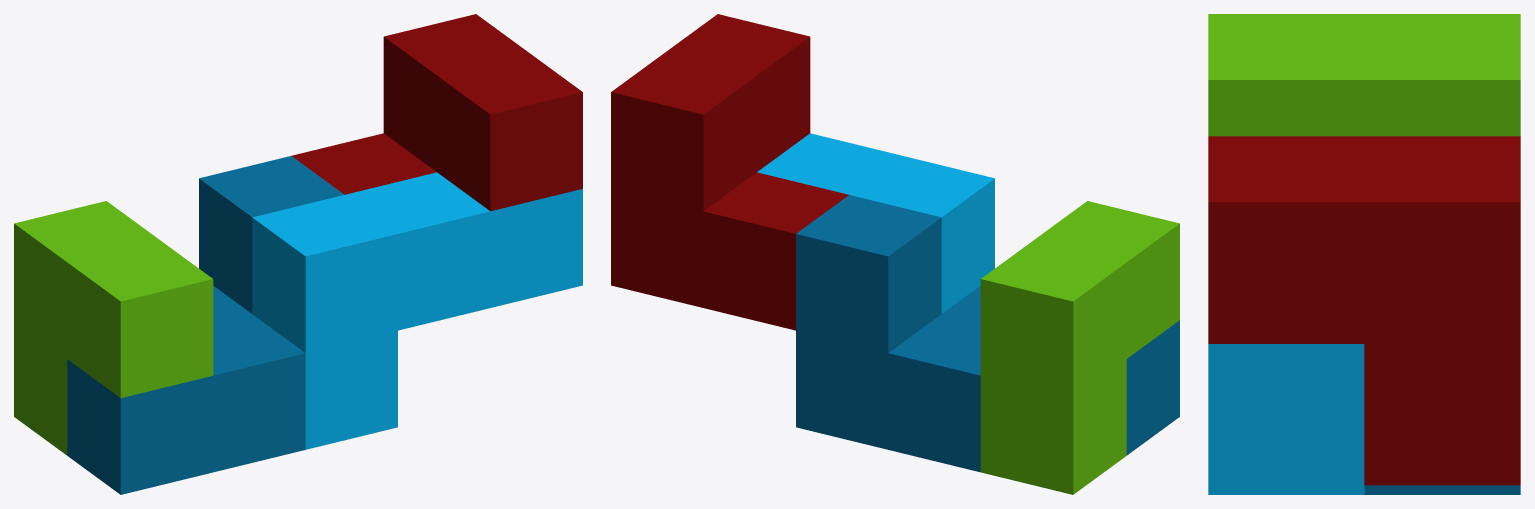
3 renders of one model, left to right at view 1: azimuth 30°, elevation 25°; view 2: azimuth 150°, elevation 25°; view 3: azimuth 270°, elevation 25°, orthographic. The views are drawn at different scales.
Parts seen in each view (by area): view 1: mergedBlocks(Clone); view 2: mergedBlocks(Clone); view 3: mergedBlocks(Clone).
Part boxes in pixels (x1=…): mergedBlocks(Clone): x1=14, y1=14, x2=582, y2=494; mergedBlocks(Clone): x1=611, y1=14, x2=1179, y2=494; mergedBlocks(Clone): x1=1208, y1=14, x2=1520, y2=494.
Bounding box in the file's own units: 5 × 3 × 2.
4 materials, 4 textured.
